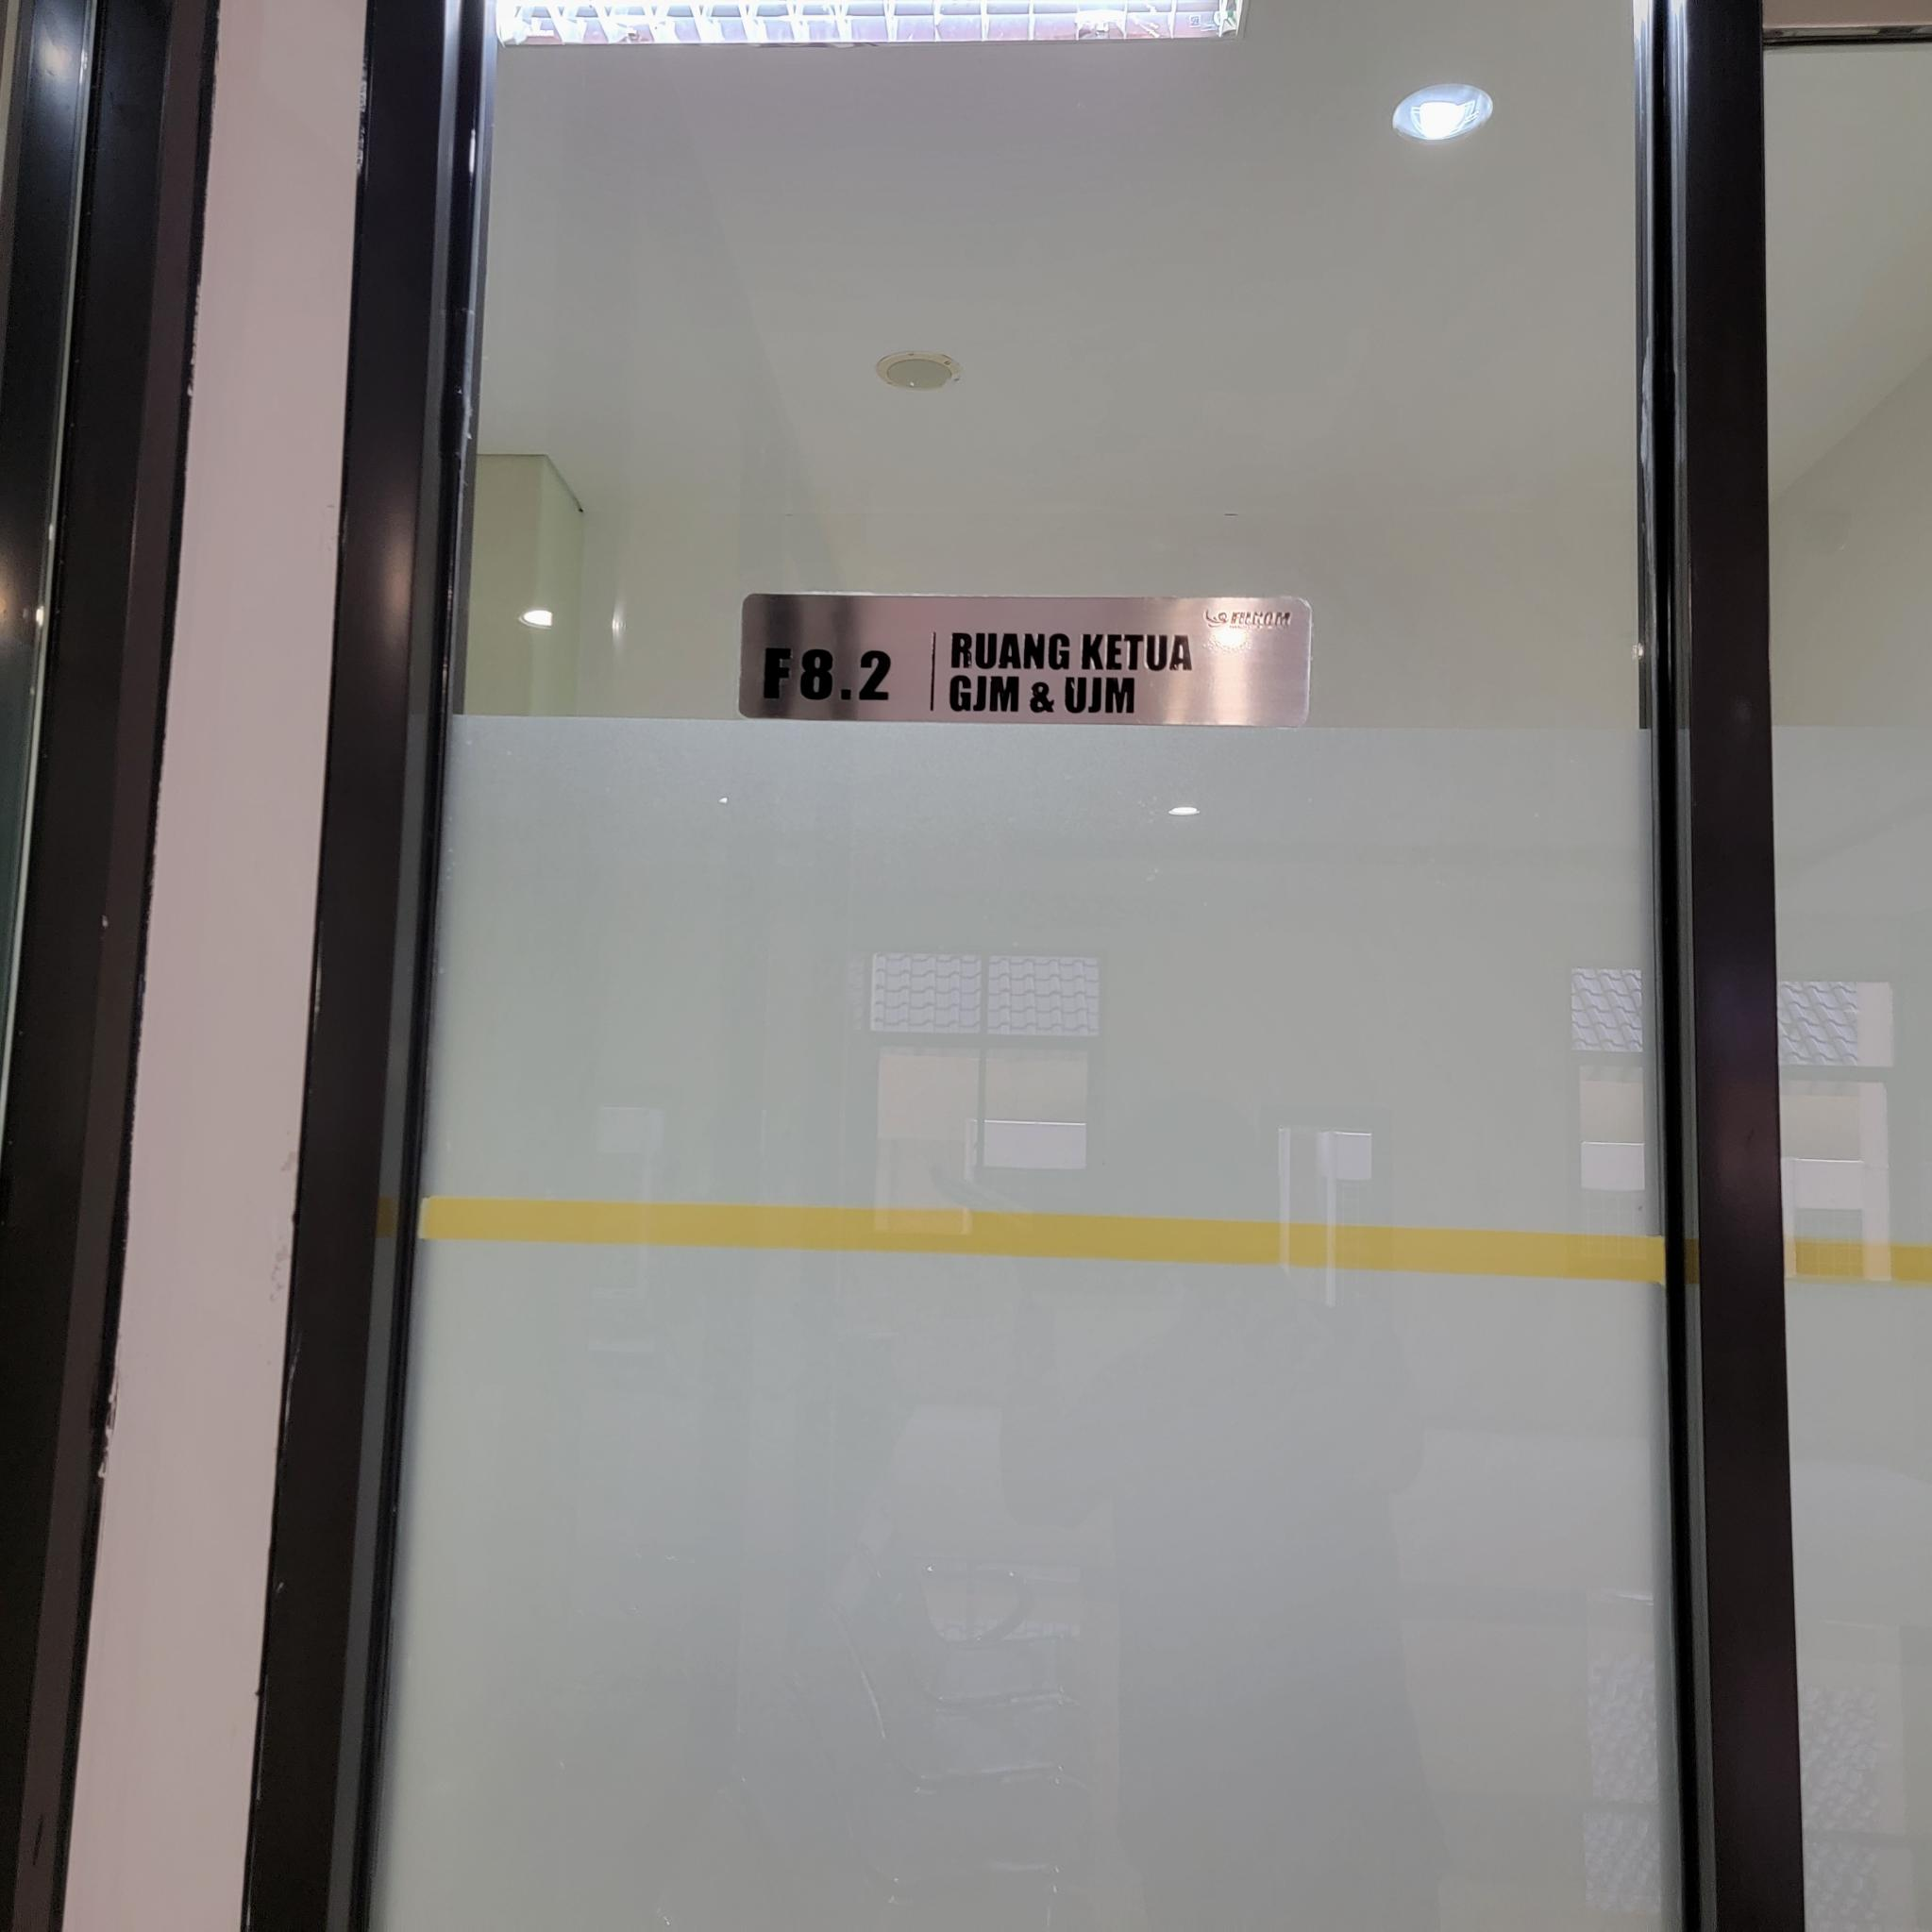plate: (734, 591, 1311, 729)
